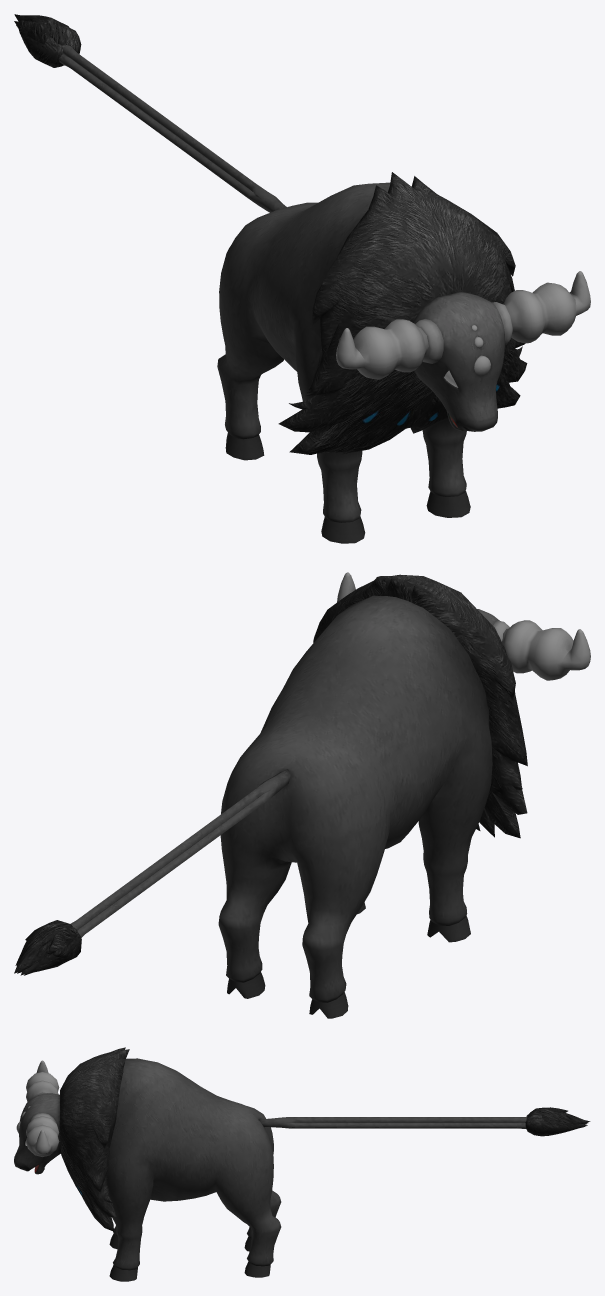
3 views of the same model, one above another, from view 1: azimuth 30°, elevation 25°; view 2: azimuth 150°, elevation 25°; view 3: azimuth 270°, elevation 25° (orthographic). The views are drawn at different scales.
Visible parts, largest first — view 1: pm0128_13_51_body_mesh_shape_body_a_00, pm0128_13_51_fur_mesh_shape_body_b; view 2: pm0128_13_51_body_mesh_shape_body_a_00, pm0128_13_51_fur_mesh_shape_body_b; view 3: pm0128_13_51_body_mesh_shape_body_a_00, pm0128_13_51_fur_mesh_shape_body_b.
Boxes of the visible parts, box(x1,y1,x2,y2) form: pm0128_13_51_body_mesh_shape_body_a_00: box(217, 182, 590, 543); pm0128_13_51_fur_mesh_shape_body_b: box(14, 14, 527, 454); pm0128_13_51_body_mesh_shape_body_a_00: box(218, 572, 590, 1018); pm0128_13_51_fur_mesh_shape_body_b: box(14, 574, 527, 975); pm0128_13_51_body_mesh_shape_body_a_00: box(14, 1058, 281, 1281); pm0128_13_51_fur_mesh_shape_body_b: box(59, 1047, 590, 1231).
Size of the model in its own units: 1.08 by 1.42 by 3.52.
Materials: 3 (2 with a texture image).
